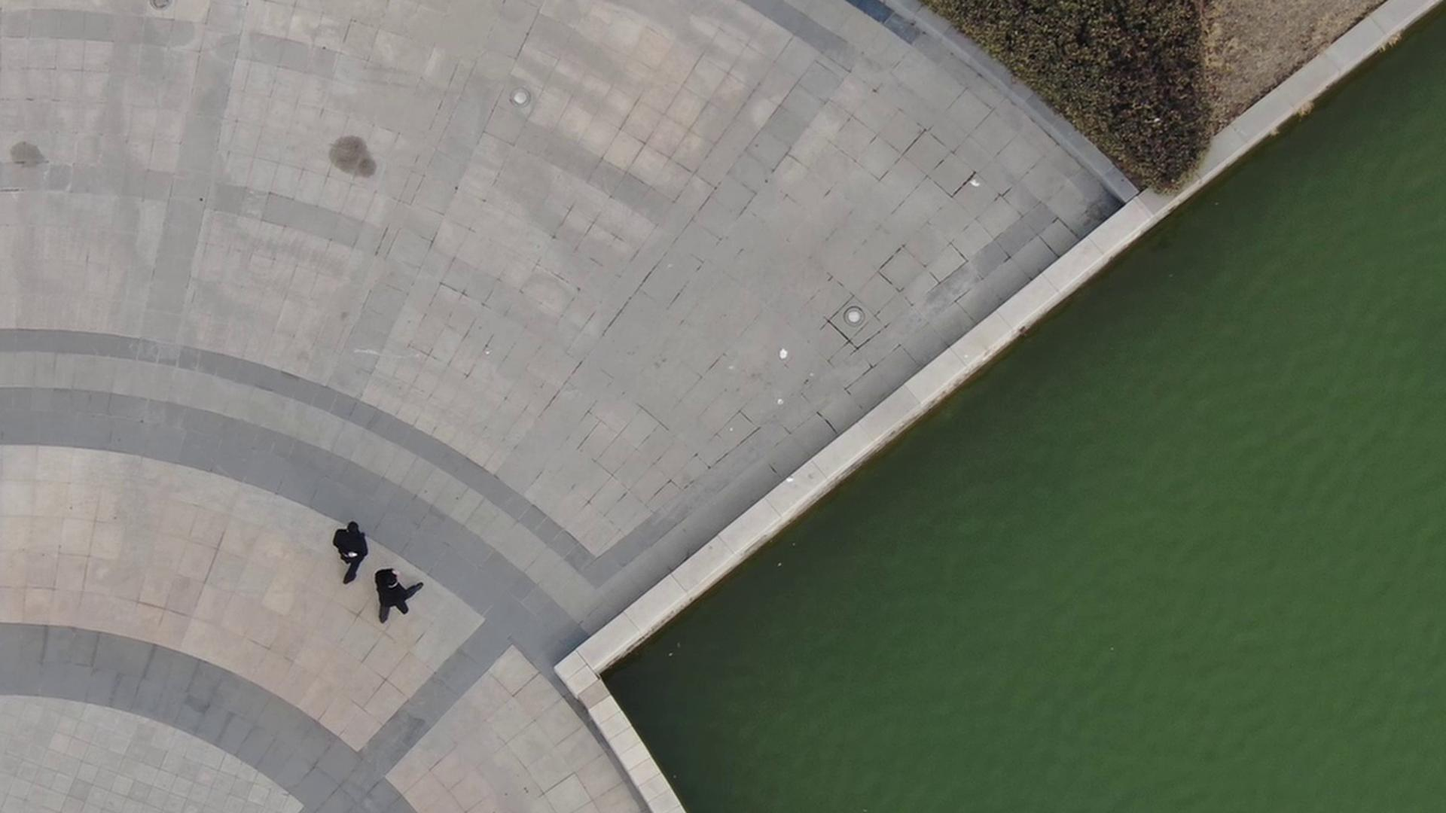human: (369, 557, 432, 619), (329, 514, 377, 580)
